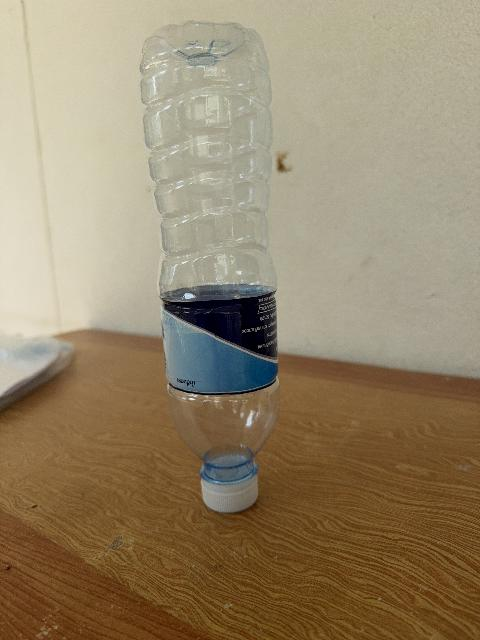bottle: (141, 22, 279, 512)
